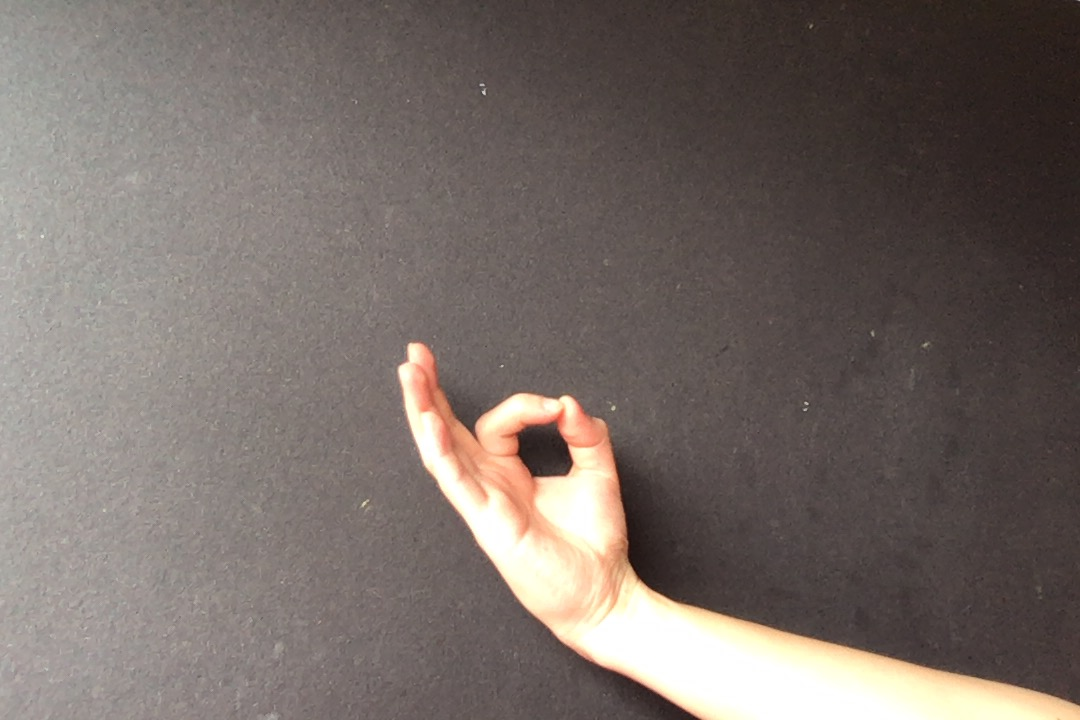oksign: (388, 333, 642, 637)
